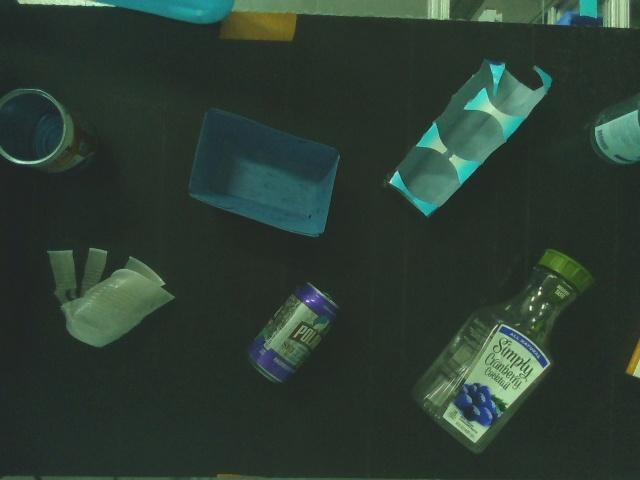cardboard: (384, 53, 554, 218), (186, 109, 342, 240), (622, 332, 640, 380)
metal: (243, 277, 344, 385), (0, 86, 101, 185)
plastic: (407, 245, 600, 455), (45, 247, 177, 350), (584, 85, 640, 169)
